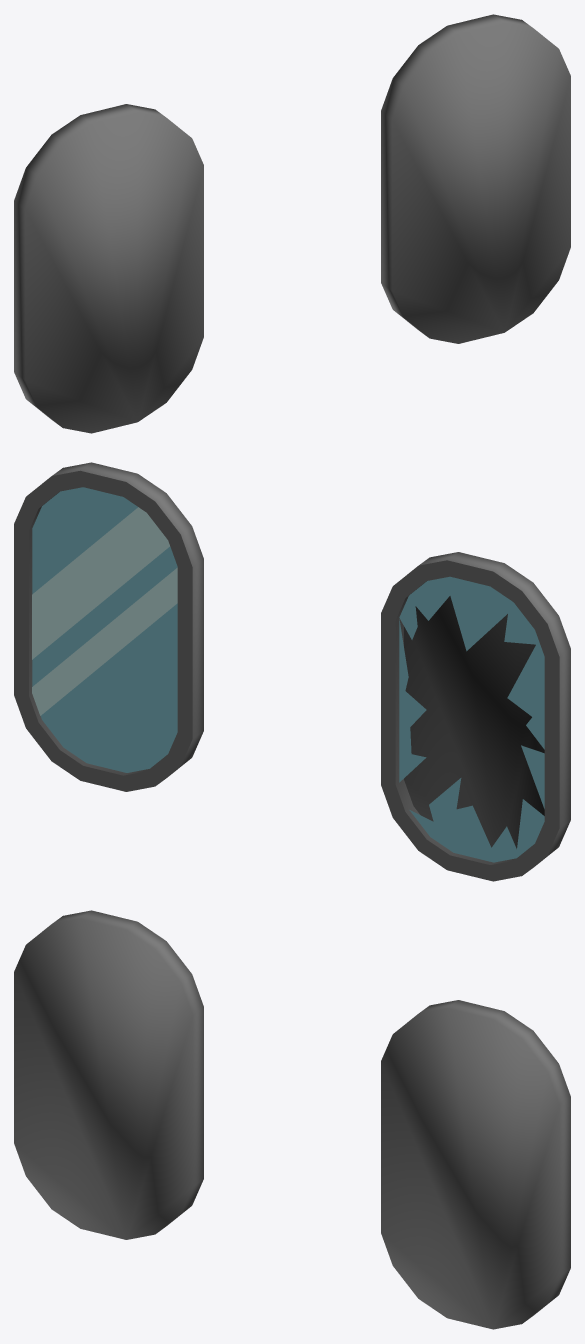
Rendered from Mirror.fbx.
The picture shows the model from 3 angles, top to bottom: view 1: azimuth 30°, elevation 25°; view 2: azimuth 150°, elevation 25°; view 3: azimuth 330°, elevation 25°; orthographic projection.
Visible parts, largest first — view 1: mirror, mirror-broken; view 2: mirror, mirror-broken; view 3: mirror, mirror-broken.
Part boxes in pixels (x1,y1,x2,y2): mirror: (381, 14, 570, 343); mirror-broken: (14, 104, 203, 433); mirror: (14, 462, 203, 791); mirror-broken: (381, 552, 570, 881); mirror: (381, 1000, 570, 1329); mirror-broken: (14, 910, 203, 1239).
Size of the model in its own units: 1.49 by 0.8076 by 0.0538.
